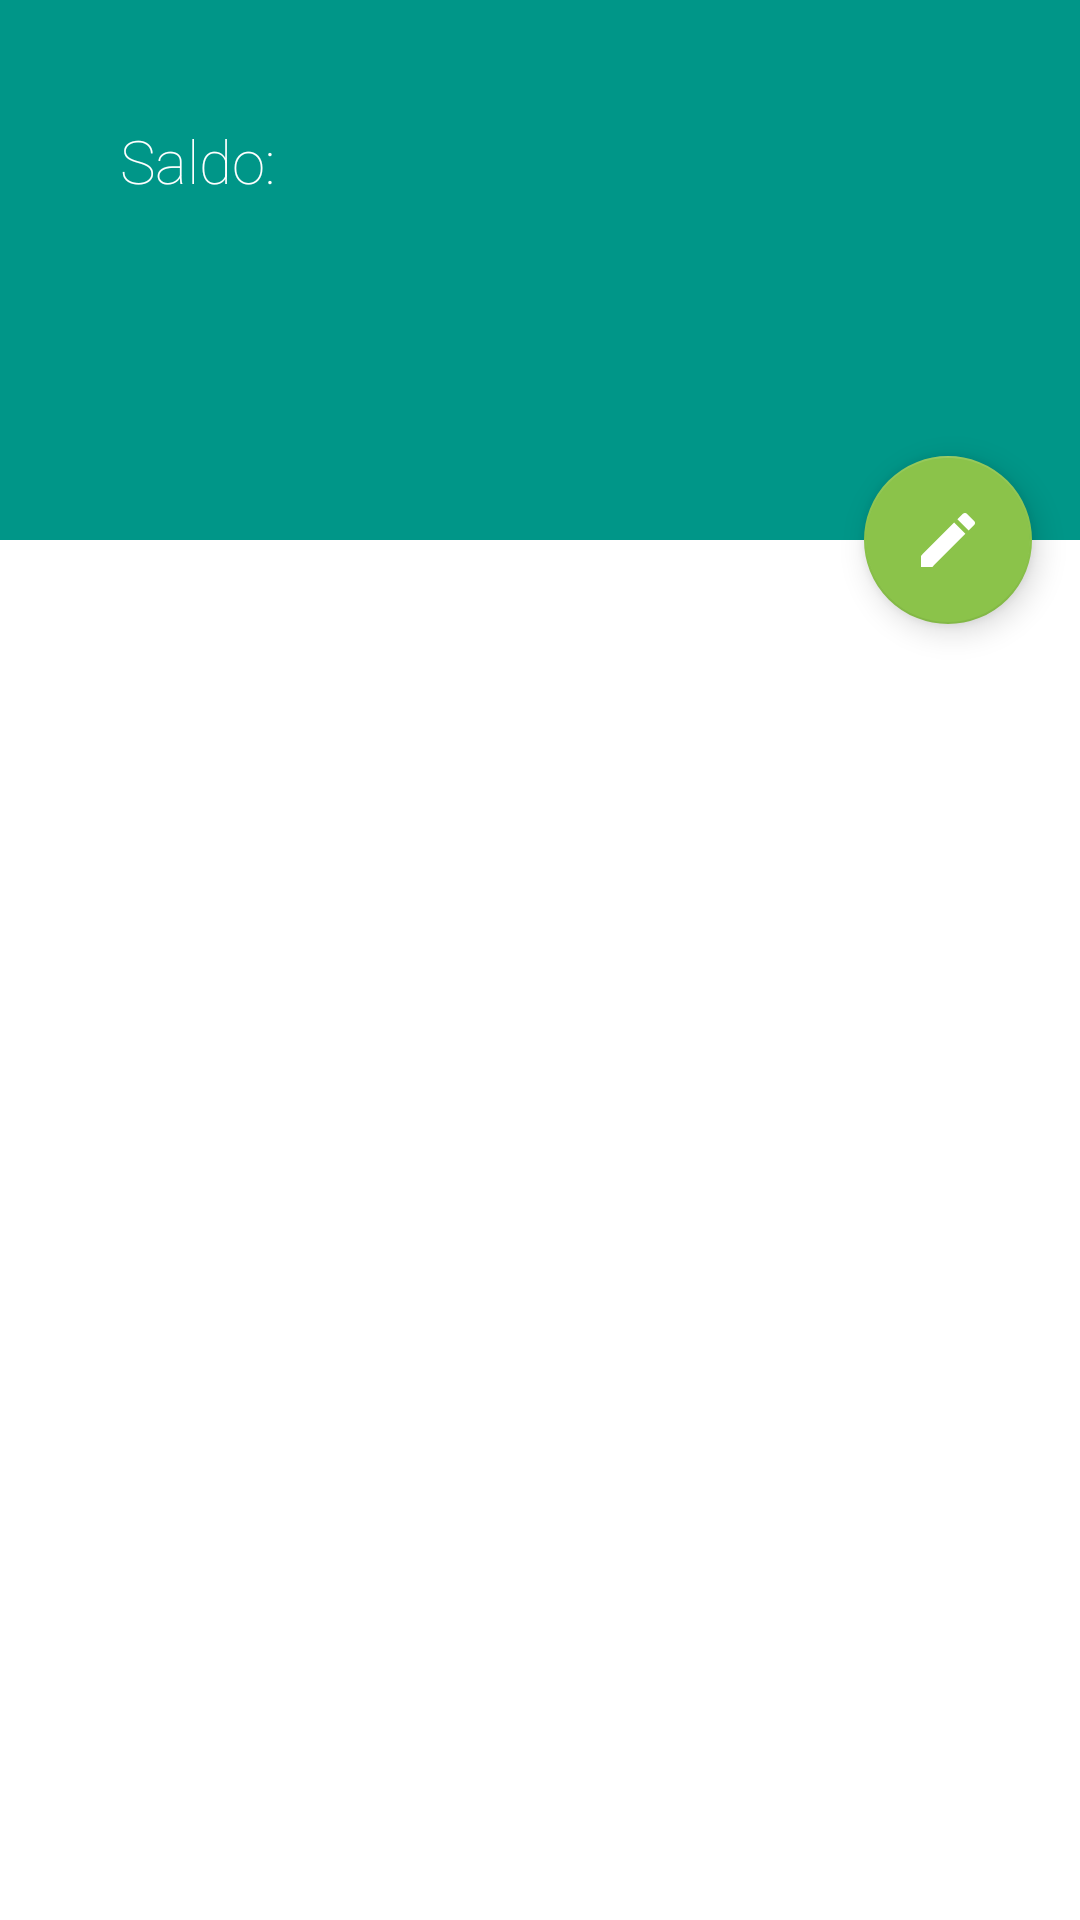

Screen size 1080px×1920px. Icon name, then its center in pixels as (x=x, y=y):
editar: (x=948, y=540)
